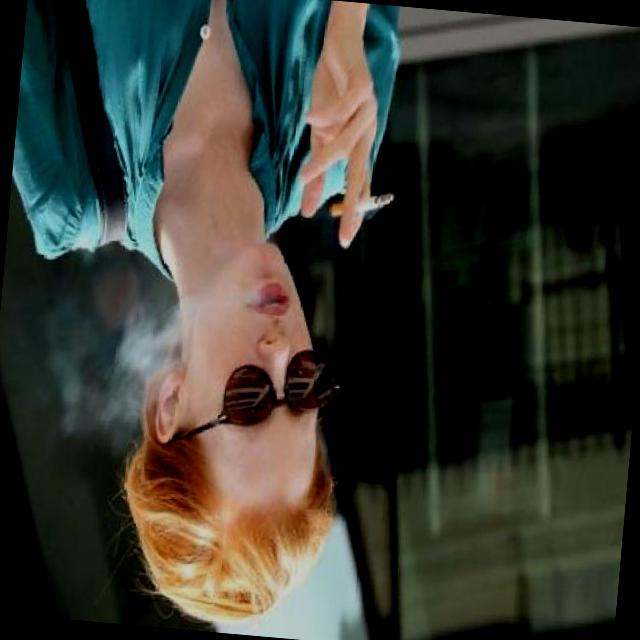cigarette: (288, 30, 414, 256)
